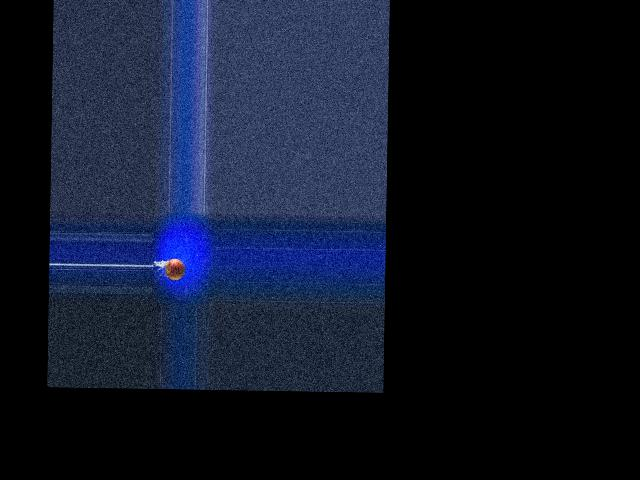tomato: (165, 258, 185, 280)
